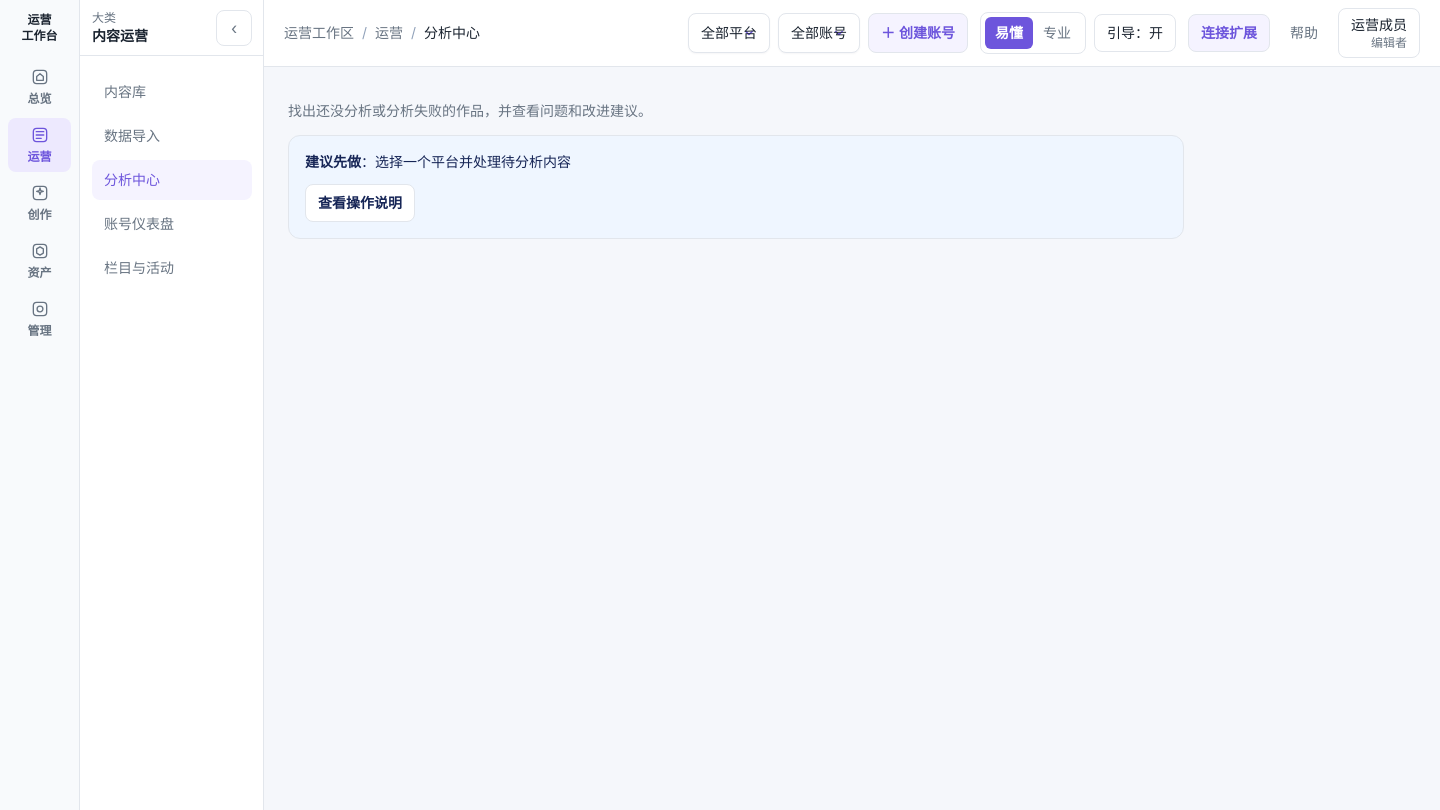
Test: always shows the easy purpose and expands persistent guidance
Expected: the text "找出还没分析或分析失败的作品，并查看问题和改进建议。" is shown, [288,102,652,119]
Expected: the text "建议先做" is shown, [305,153,361,170]
Click the button "查看操作说明".
click(360, 203)  # box [305,184,415,222]
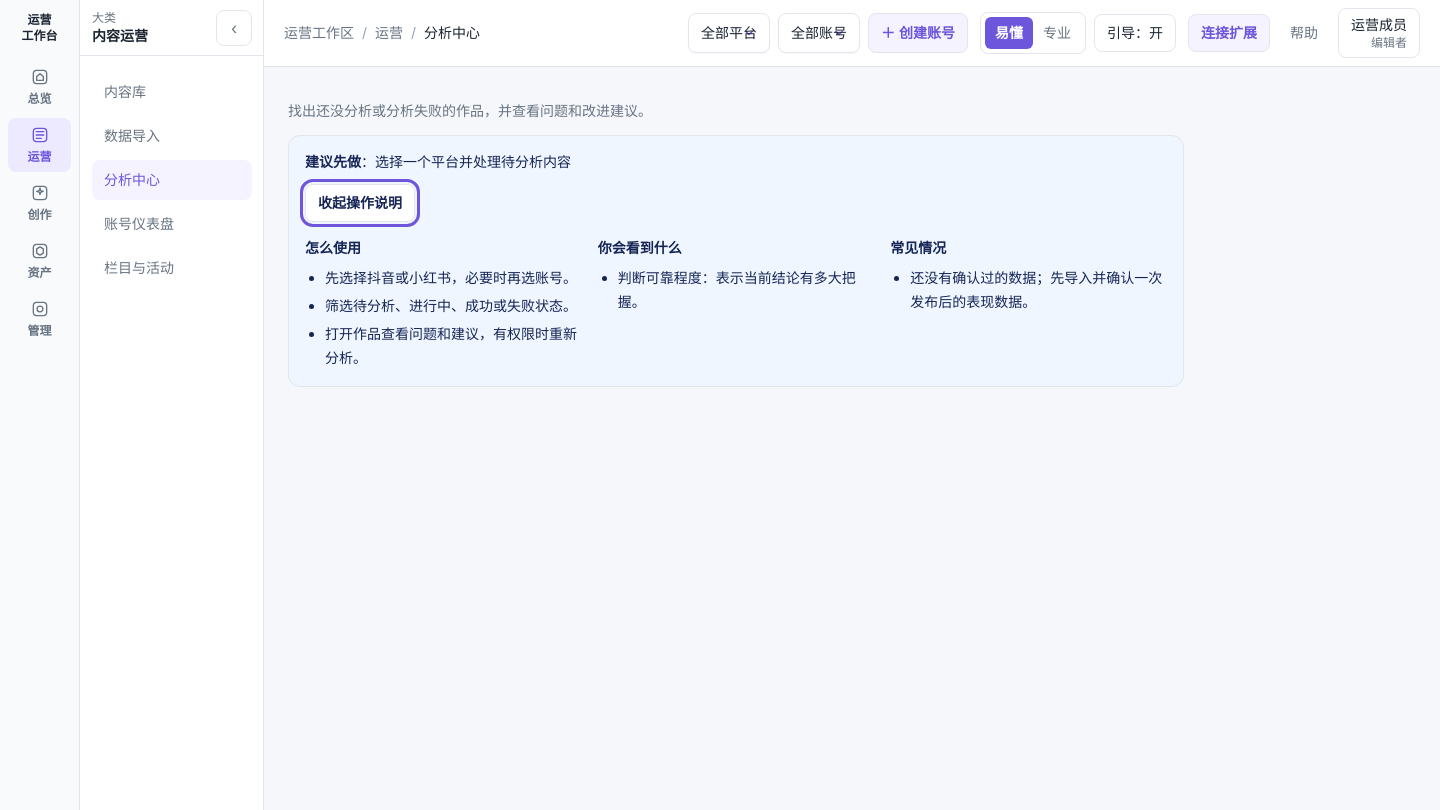
Result: the element named "分析中心操作说明" is shown at [305,238,1167,370]
Result: the heading "怎么使用" is shown at [305,239,361,256]
Result: the heading "你会看到什么" is shown at [598,239,682,256]
